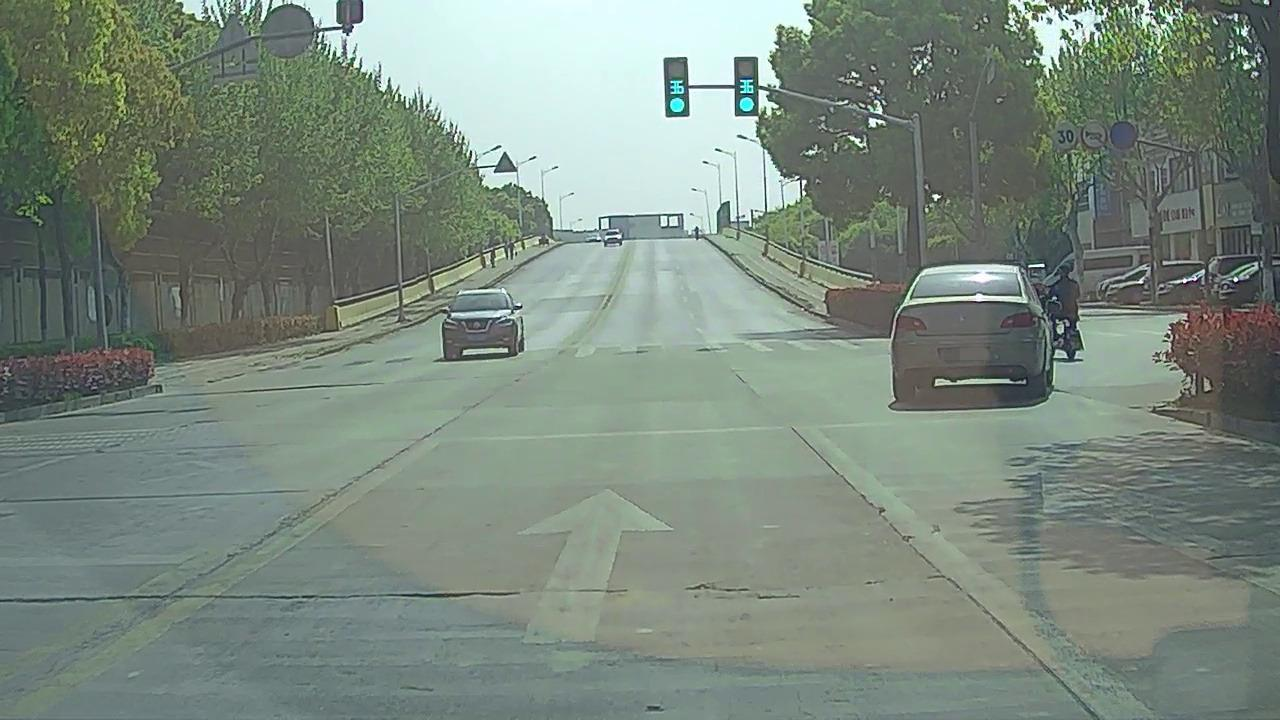traffic_light: (736, 57, 758, 115), (665, 58, 687, 115)
